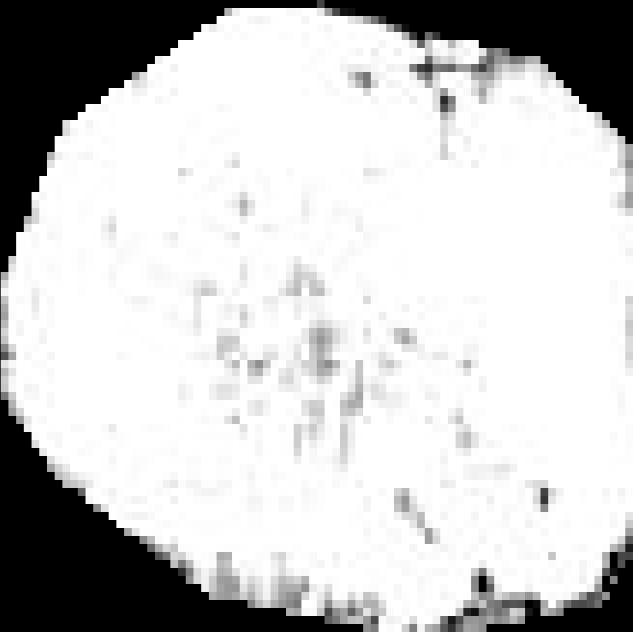tumor_moderate_chance: (1, 0, 633, 632)
